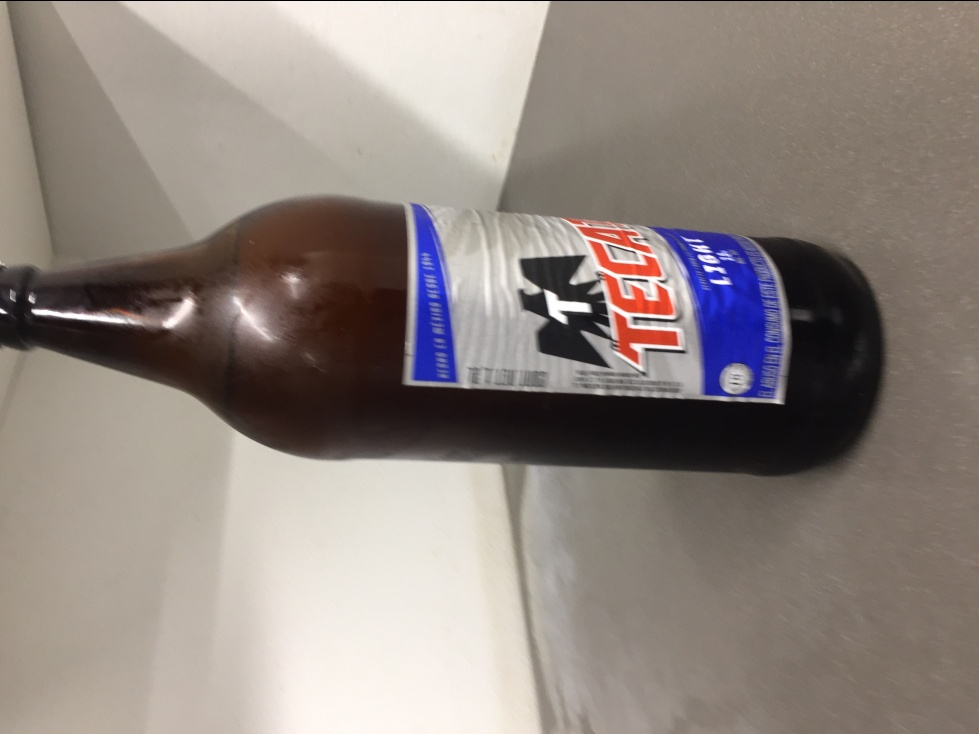tecateC: (8, 192, 881, 480)
